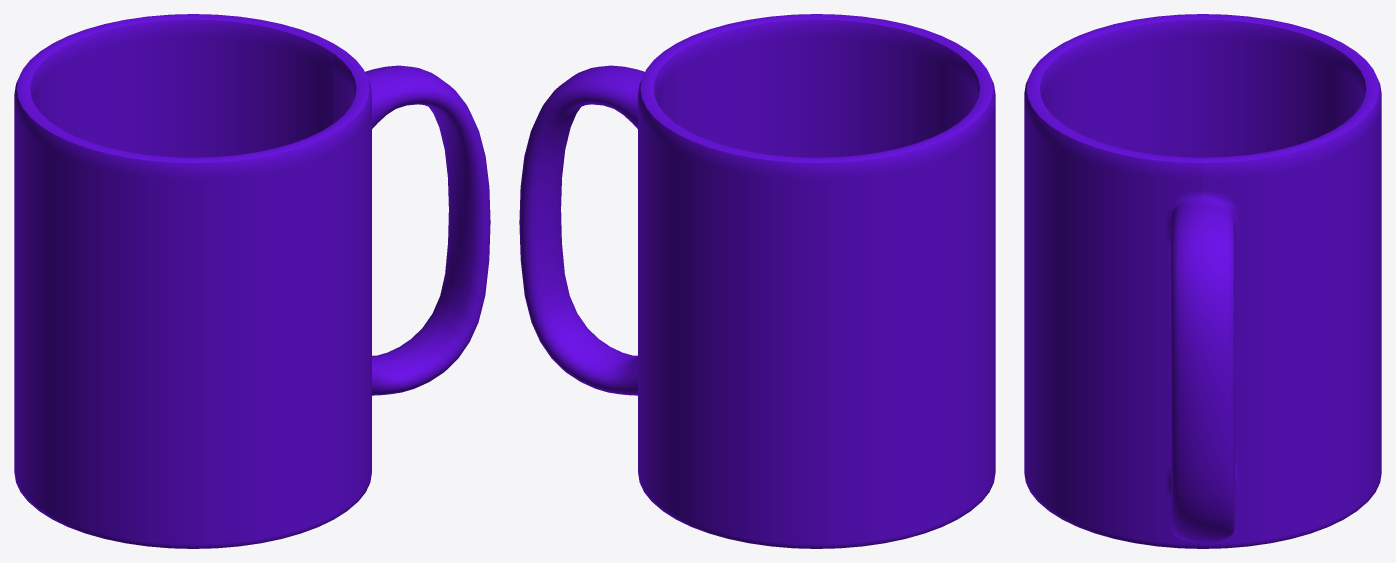
3 renders of one model, left to right at view 1: azimuth 30°, elevation 25°; view 2: azimuth 150°, elevation 25°; view 3: azimuth 270°, elevation 25°, orthographic.
Visible parts, largest first — view 1: split_parent_0; view 2: split_parent_0; view 3: split_parent_0.
Part boxes in pixels (<box>): split_parent_0: <box>14,14,490,548</box>; split_parent_0: <box>519,14,995,548</box>; split_parent_0: <box>1024,14,1381,548</box>.
Bounding box in the file's own units: 1 × 0.833 × 0.697.
